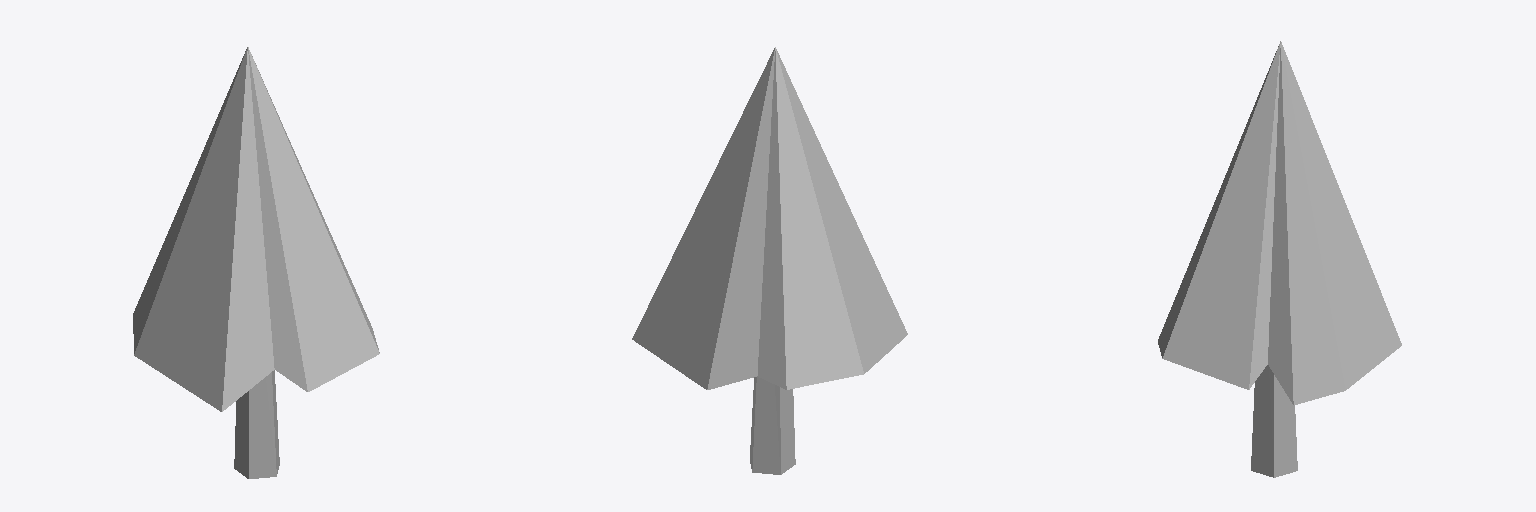
File: Forest_A_FirTree_25.obj
3 renders of one model, left to right at view 1: azimuth 30°, elevation 25°; view 2: azimuth 150°, elevation 25°; view 3: azimuth 270°, elevation 25°, orthographic.
Parts seen in each view (by area): view 1: Forest_A_FirTree_25; view 2: Forest_A_FirTree_25; view 3: Forest_A_FirTree_25.
Part boxes in pixels (x1,y1,x2,y2): Forest_A_FirTree_25: (133,47,379,478); Forest_A_FirTree_25: (632,47,907,474); Forest_A_FirTree_25: (1158,41,1401,477).
Bounding box in the file's own units: 97.13 × 180 × 94.27.